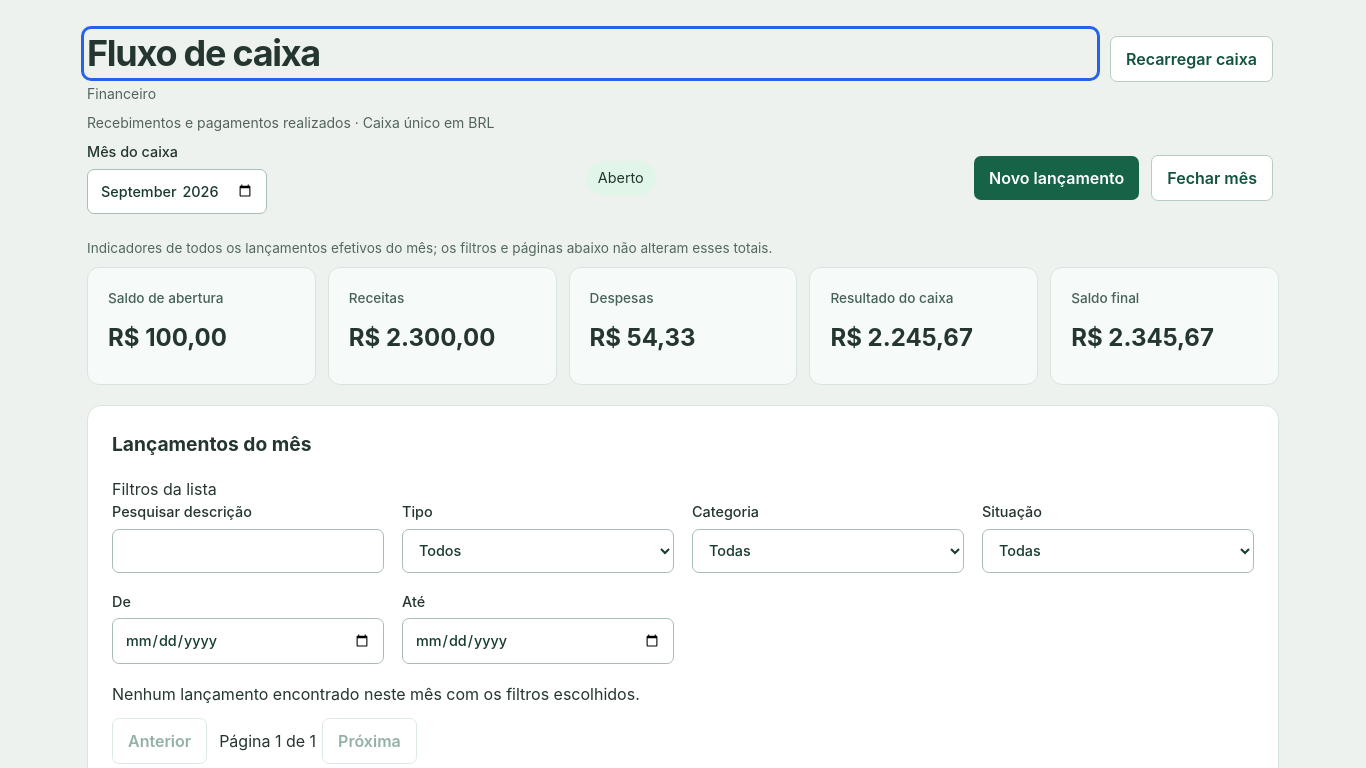
Test case: Caixa durante a consulta de outro mês › conserva a falha da consulta sem apresentar resumo anterior ou carregamento infinito
expect the text "R$ 2.345,67" is shown: met, box [1071,323,1214,352]
Replace the text in the field labelled "Mês do caixa" with "2026-08" at x=177, y=192, box [87,169,267,214]
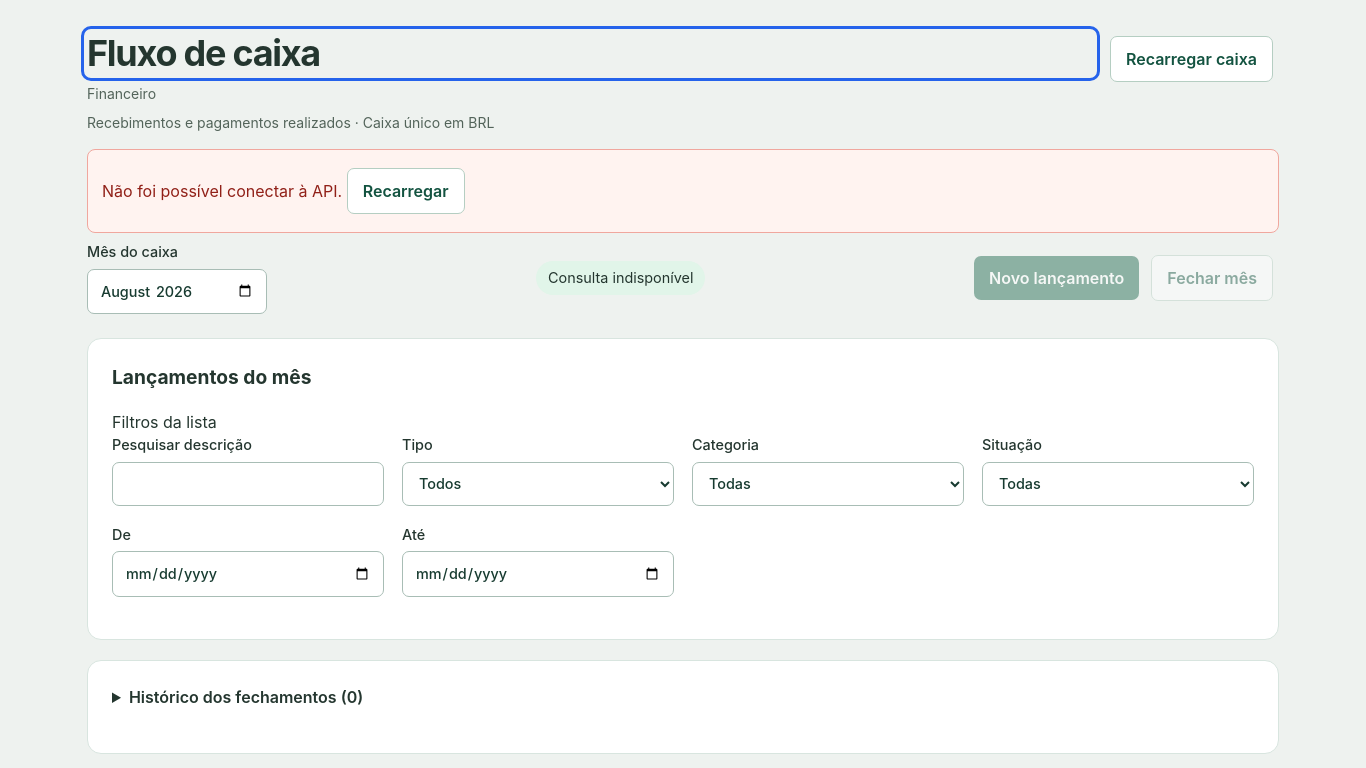
expect the message "Não foi possível conectar à API. Recarregar" is shown: met, box [87,149,1279,233]
expect the text "R$ 2.345,67" is gone: met
expect the button "Novo lançamento" is disabled: met, box [974,256,1139,300]
